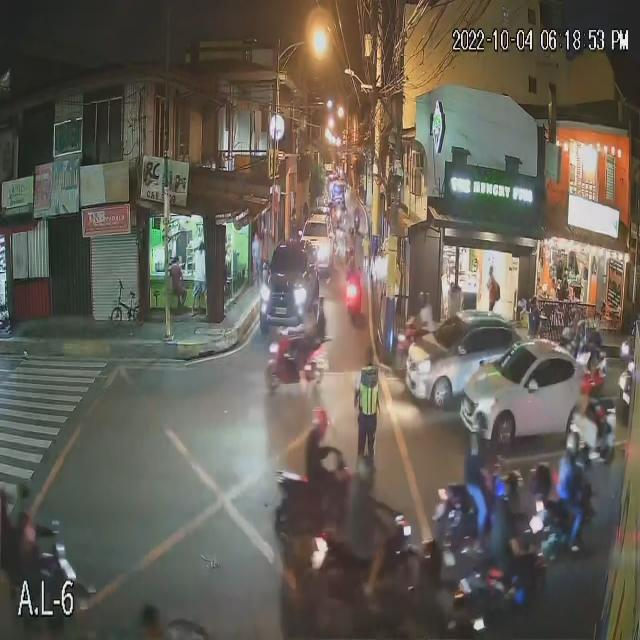helmet: (313, 413, 330, 427), (582, 379, 596, 394)
motorcycle: (306, 546, 420, 606), (3, 531, 84, 614), (270, 470, 364, 528), (528, 502, 594, 565), (454, 577, 543, 623), (429, 488, 514, 536), (563, 417, 631, 463), (267, 336, 331, 383), (343, 280, 365, 314)
rider: (558, 464, 584, 538), (353, 482, 373, 560), (307, 432, 329, 499), (468, 445, 489, 515), (18, 508, 35, 567), (499, 513, 513, 583), (581, 398, 601, 444), (306, 312, 317, 354)
